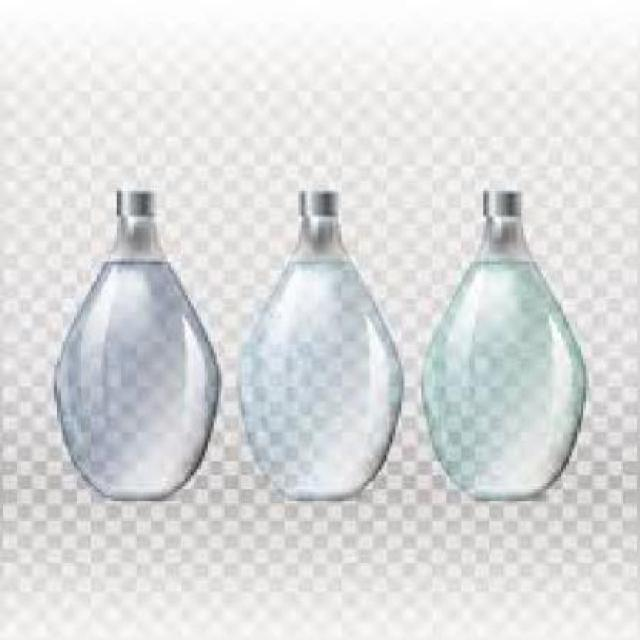kaca: (231, 214, 398, 500), (415, 214, 583, 498), (54, 217, 218, 498)
